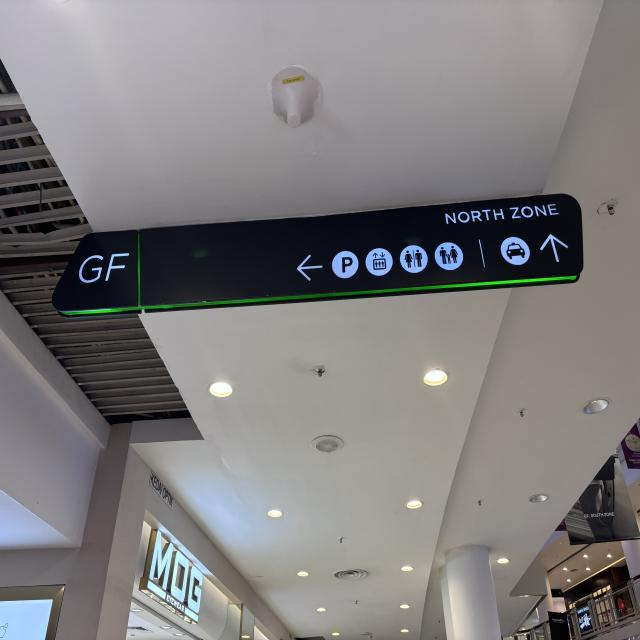lift_icon: (369, 248, 388, 276)
toilet_icon: (402, 245, 425, 275)
